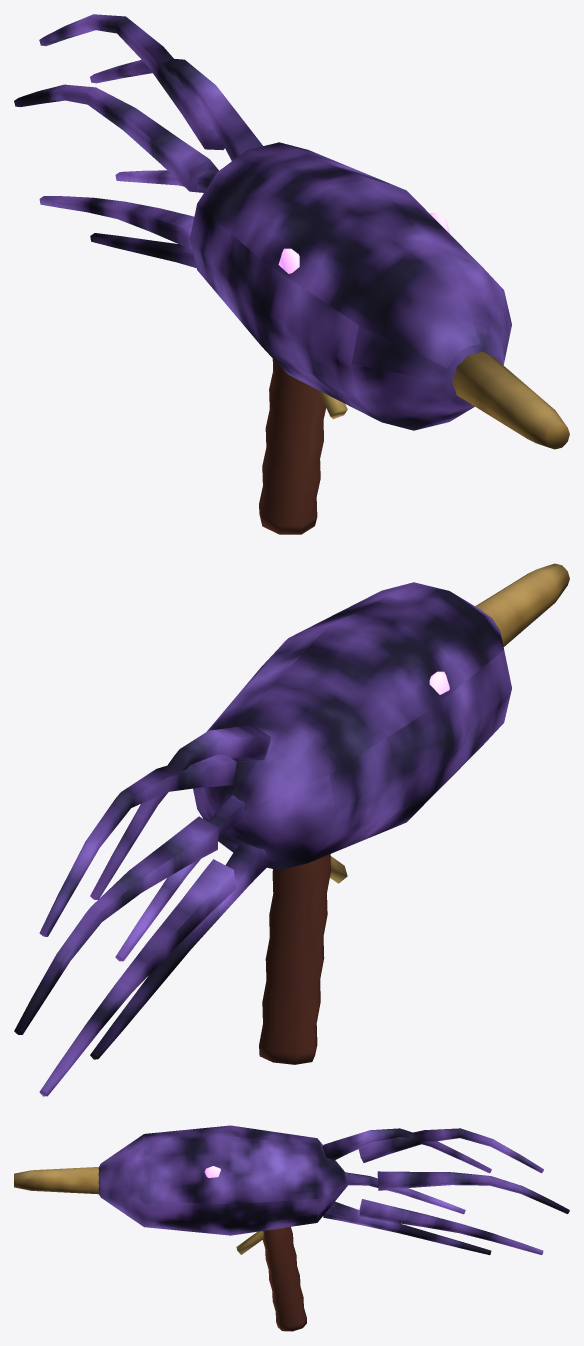
Rendered from InkSquirter.fbx.
The picture shows the model from 3 angles, top to bottom: view 1: azimuth 30°, elevation 25°; view 2: azimuth 150°, elevation 25°; view 3: azimuth 270°, elevation 25°; orthographic projection. The views are drawn at different scales.
Visible parts, largest first — view 1: InkSquirter; view 2: InkSquirter; view 3: InkSquirter.
Boxes of the visible parts, x1,y1,x2,y2 form: InkSquirter: (14,14,569,534); InkSquirter: (14,563,569,1096); InkSquirter: (14,1125,569,1331).
Bounding box in the file's own units: 0.13 × 0.253 × 0.6414.
